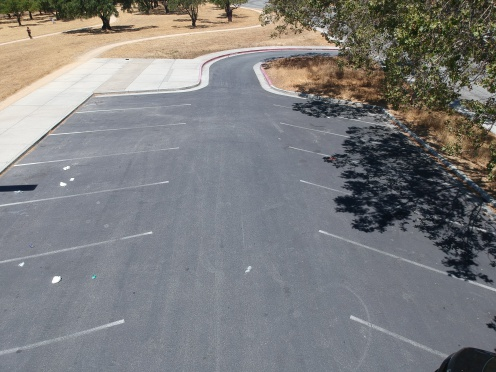can: (25, 240, 35, 249)
plastic bag: (46, 275, 64, 285)
